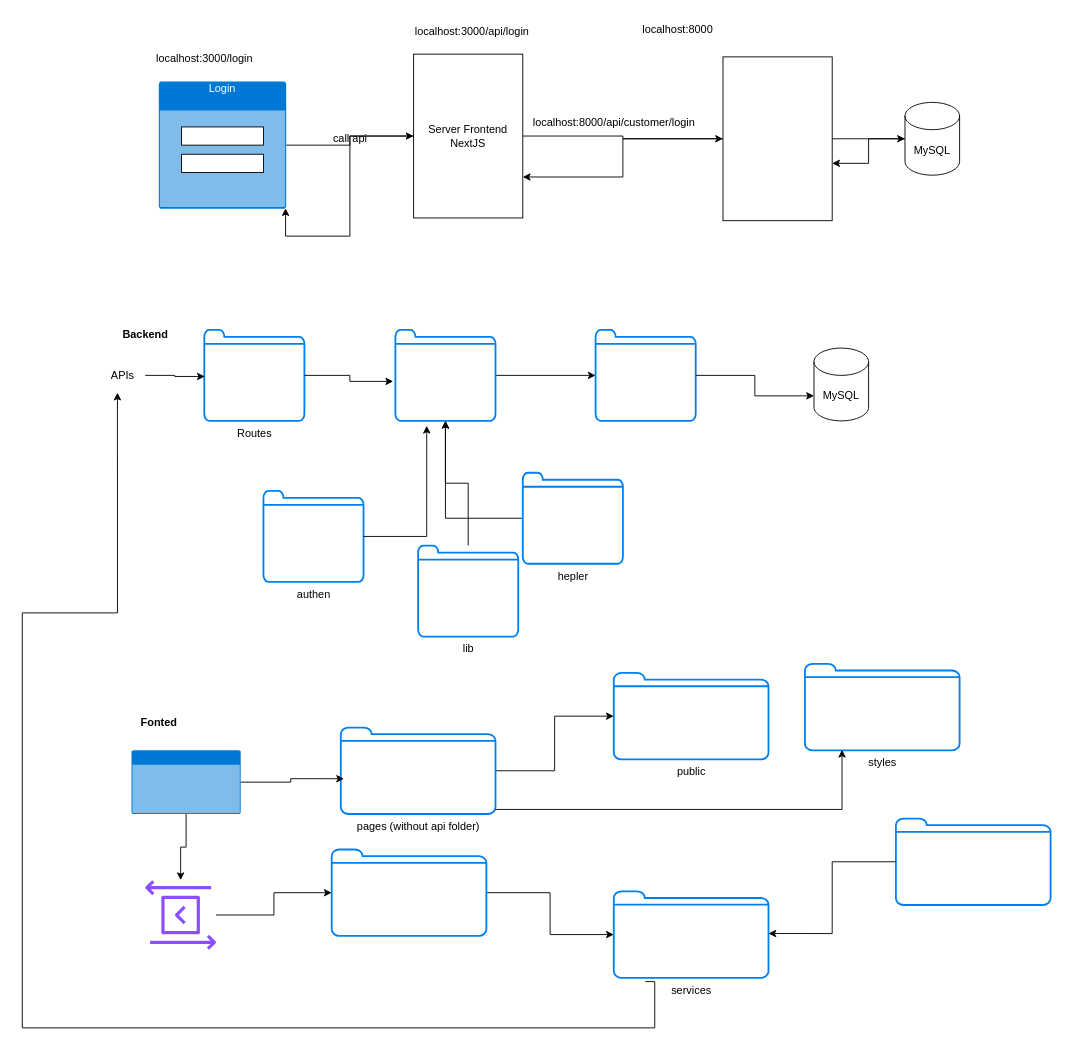
Image size: 1067x1051. Some labels were removed from this diagram. Each missing label, with the centre of its shape:
"Controllers" belongs at (x=445, y=375).
"helper" belongs at (x=973, y=861).
"Models" belongs at (x=645, y=375).
"Page" belongs at (x=185, y=782).
"pages/api" belongs at (x=408, y=892).
"Server Gốc" belongs at (x=777, y=138).
